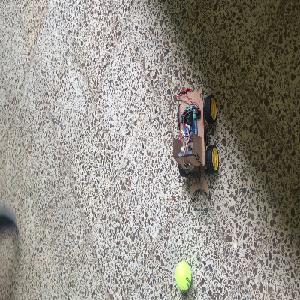Ball: (176, 261, 190, 290)
Robot: (173, 89, 218, 196)
